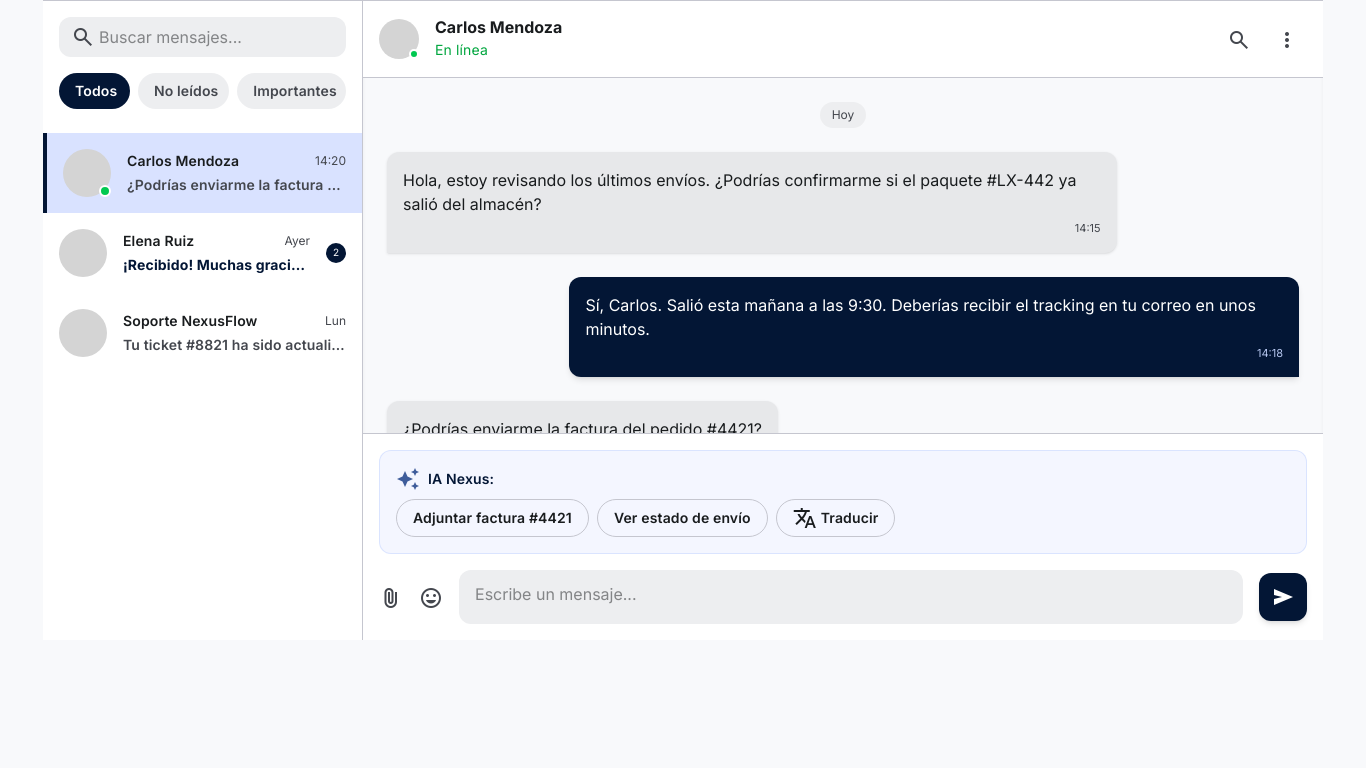
MessagingPage › switches to unread tab and filters
Step 1. Click the button "No leídos" → coordinates (184, 91), box [138,73,229,109]
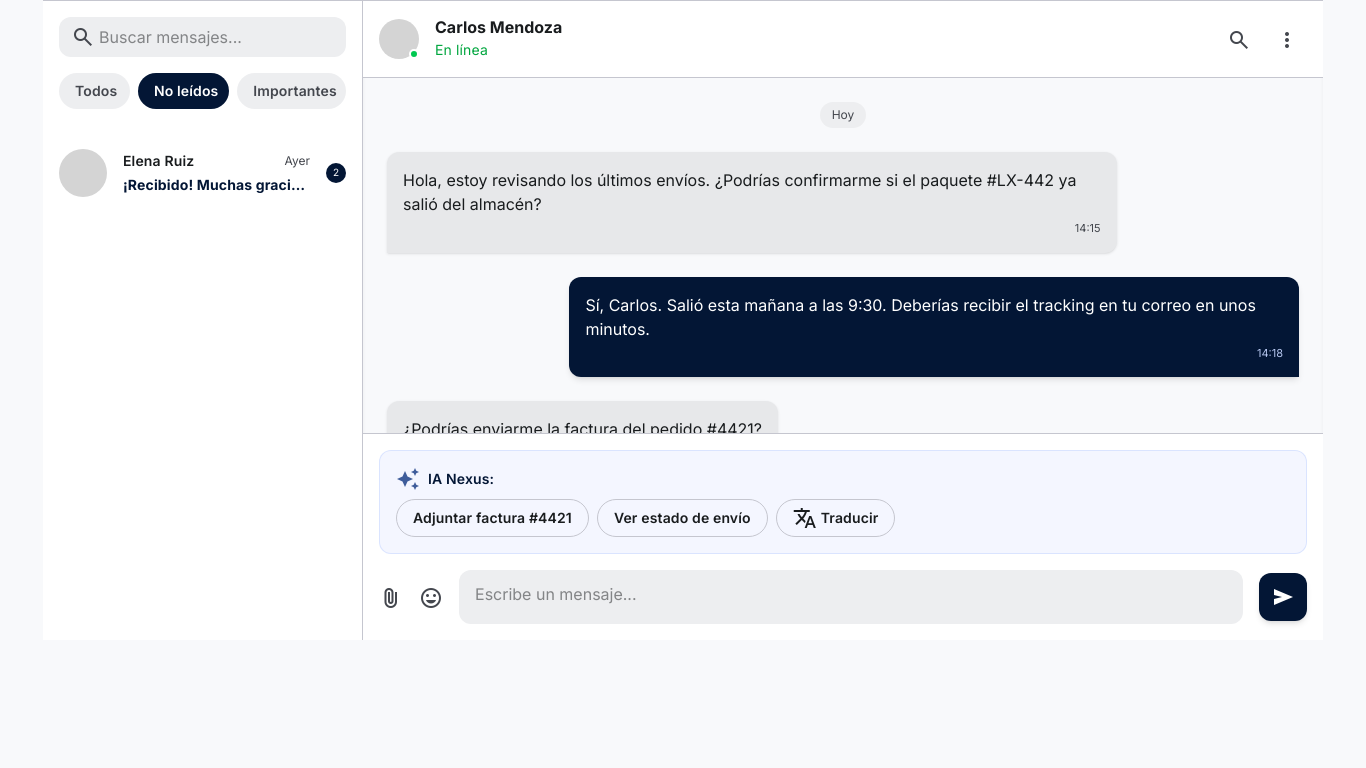
Expected: the heading "Elena Ruiz" is shown, [123,151,194,171]
Result: the button "Soporte NexusFlow" is gone
